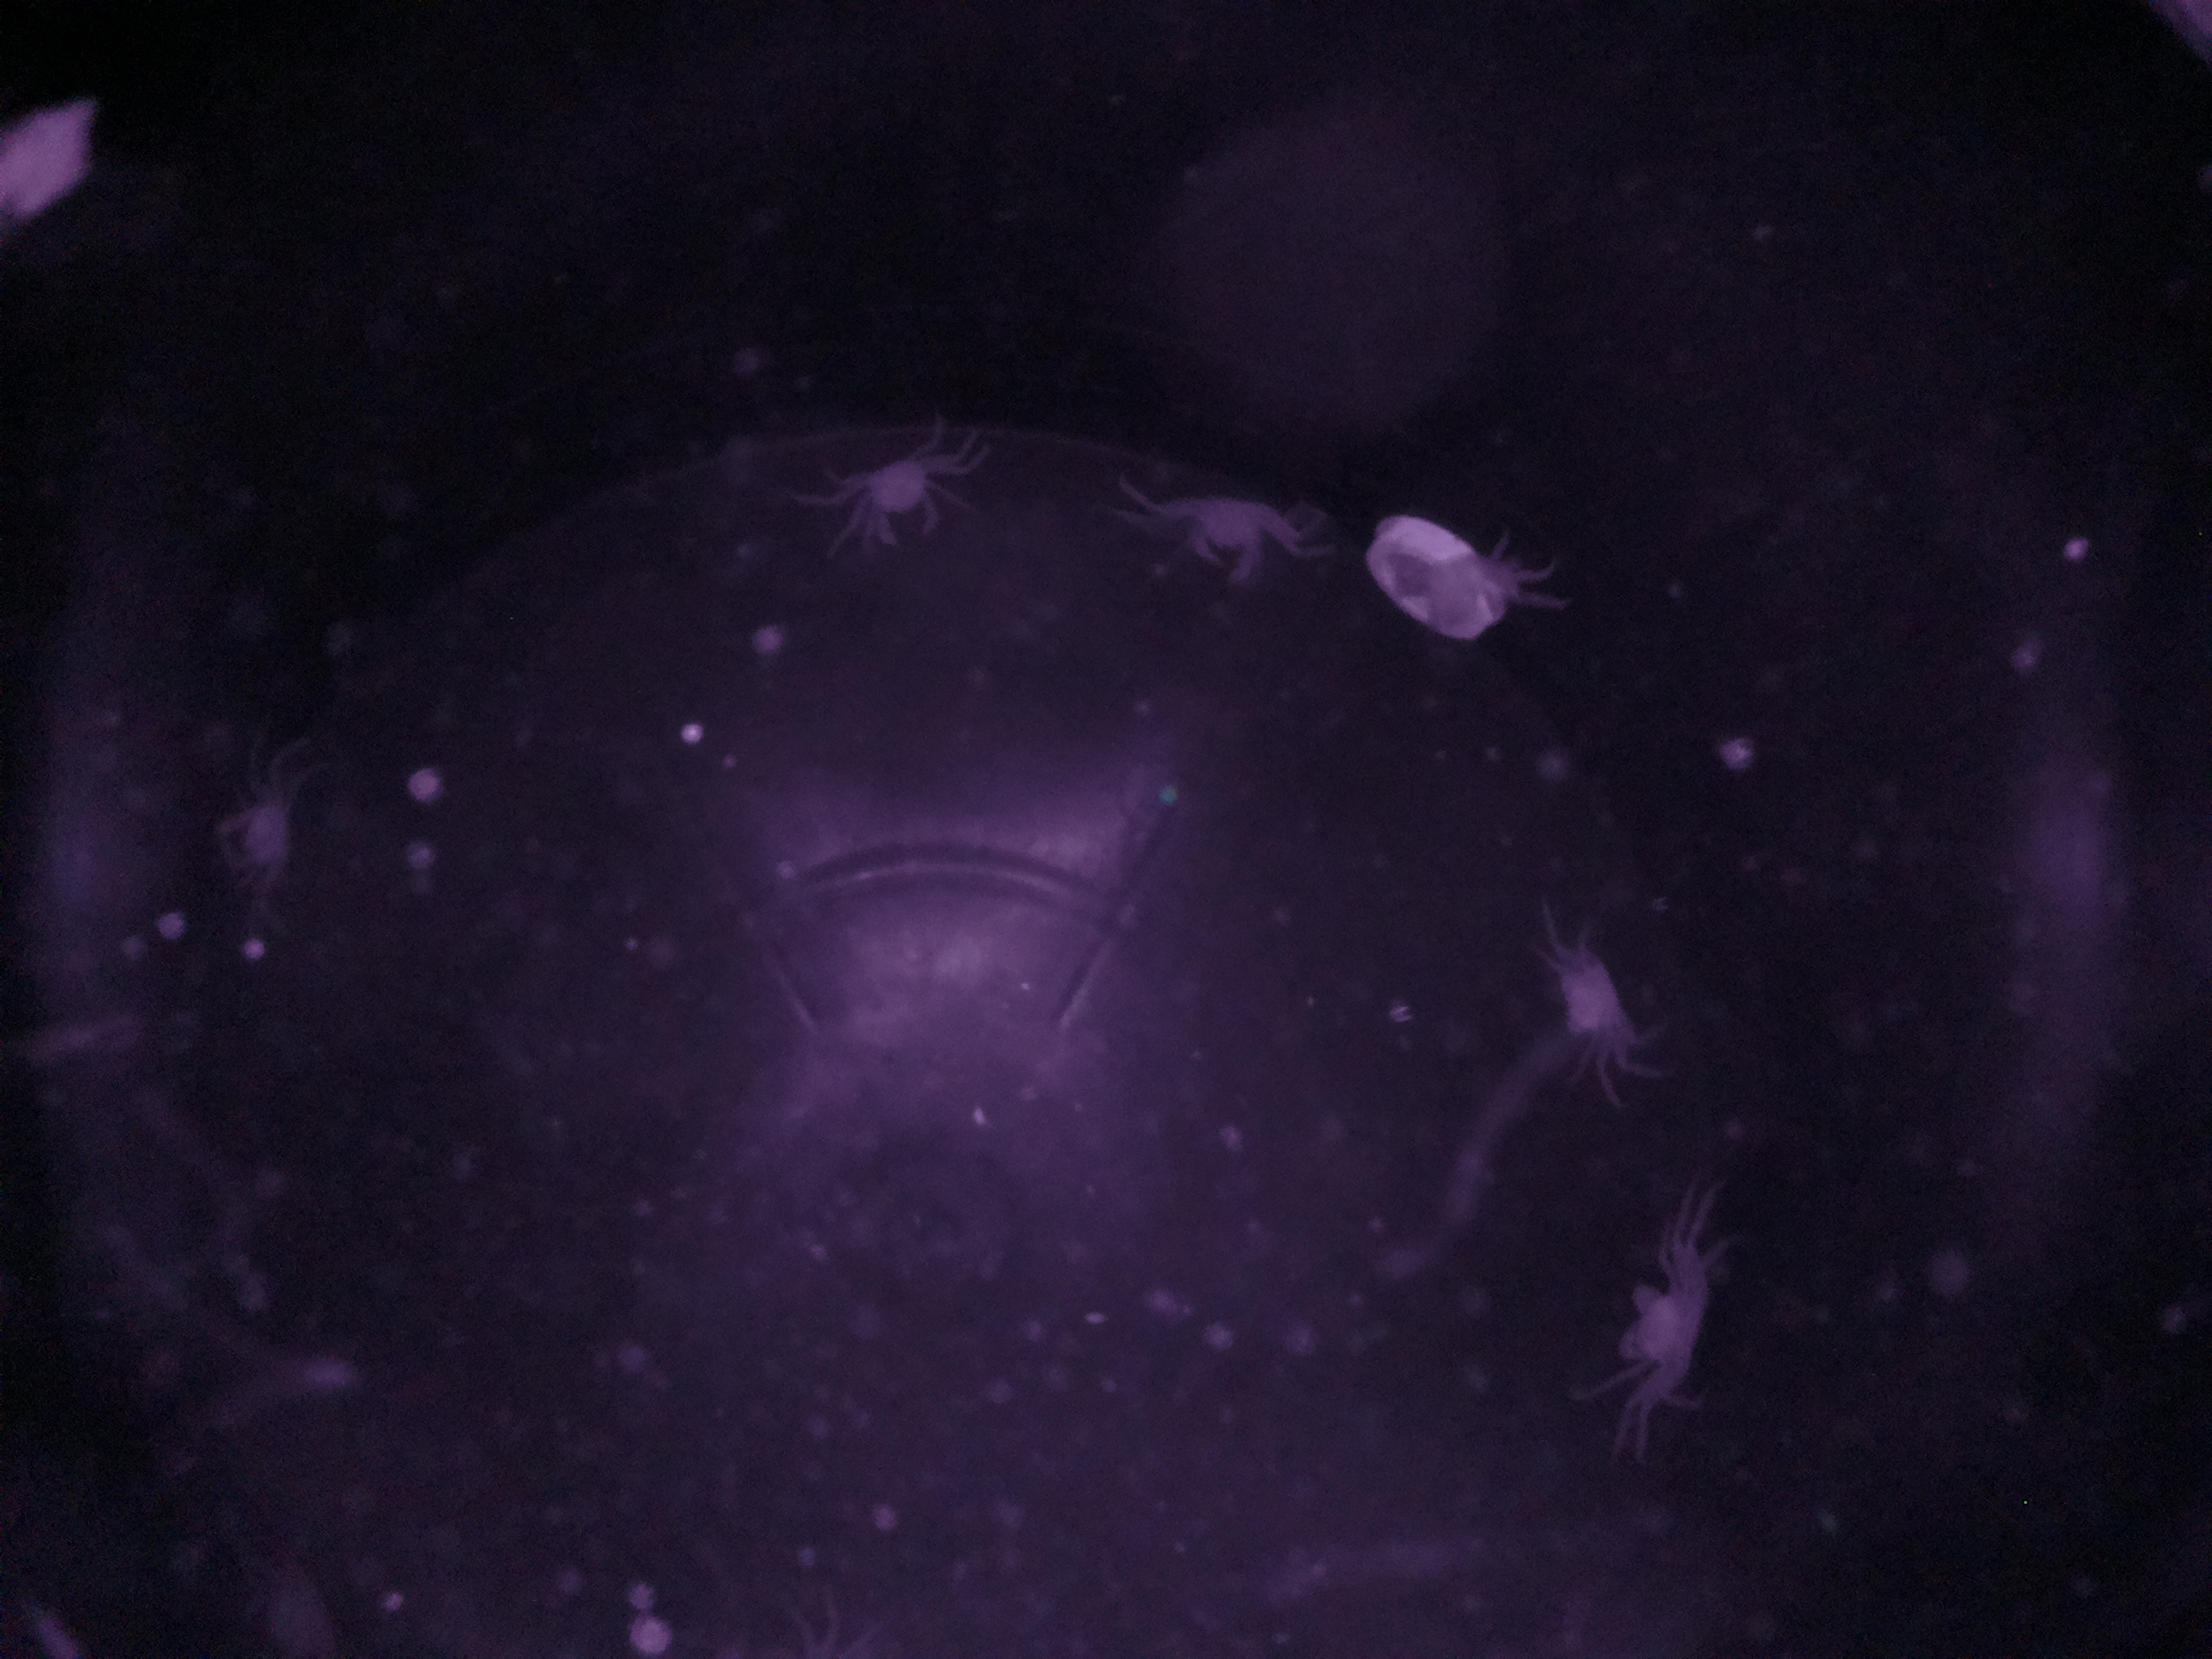Crab: (1601, 1255, 1730, 1405), (1165, 465, 1303, 605), (824, 429, 963, 558)
